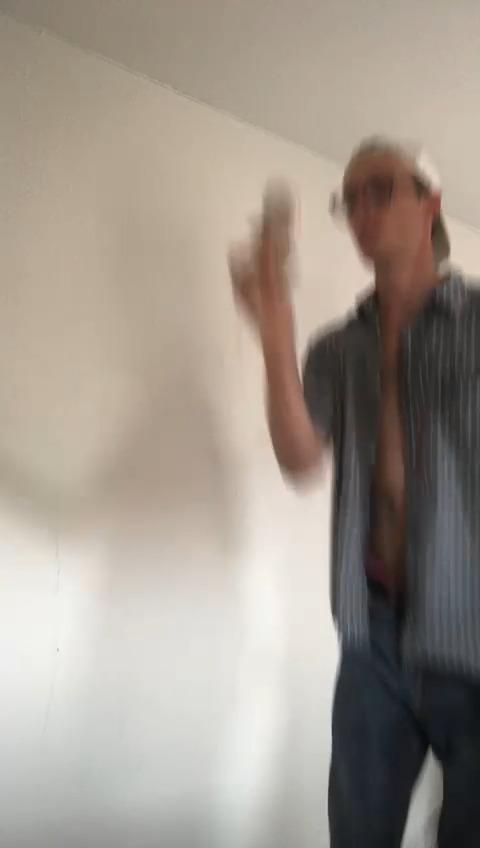kendama_ball: (264, 180, 294, 219)
